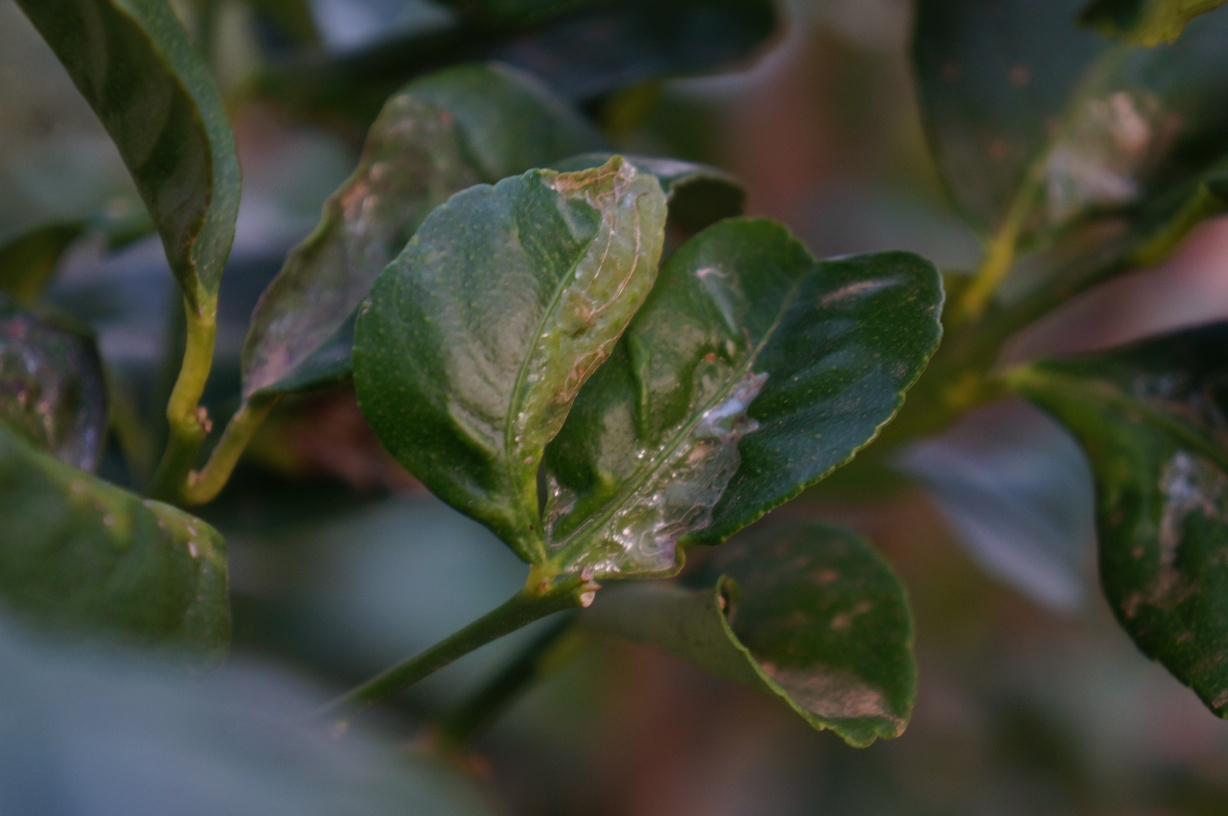damage: (565, 368, 785, 613)
